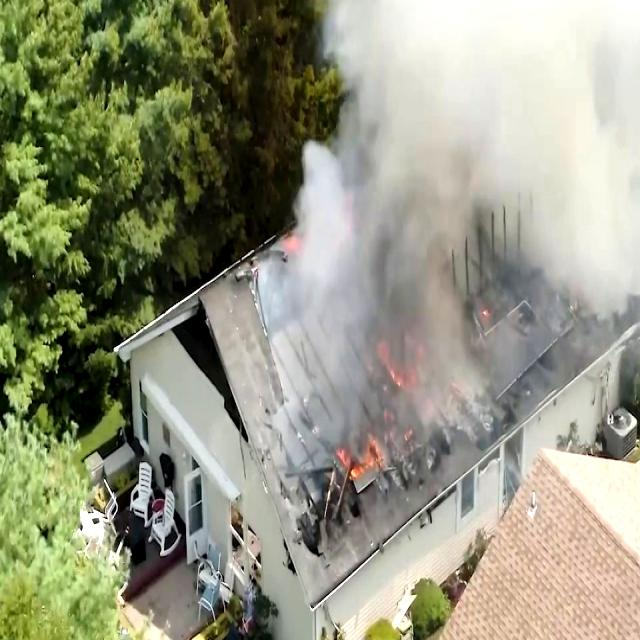smoke: (316, 0, 640, 194)
